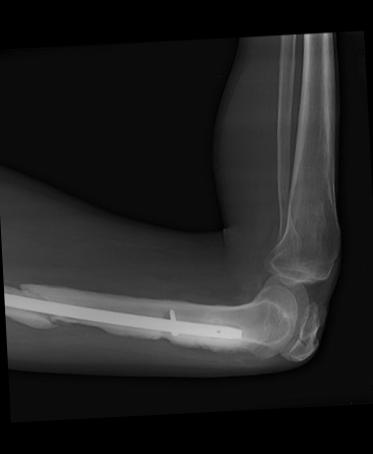fractured: (3, 282, 63, 329)
